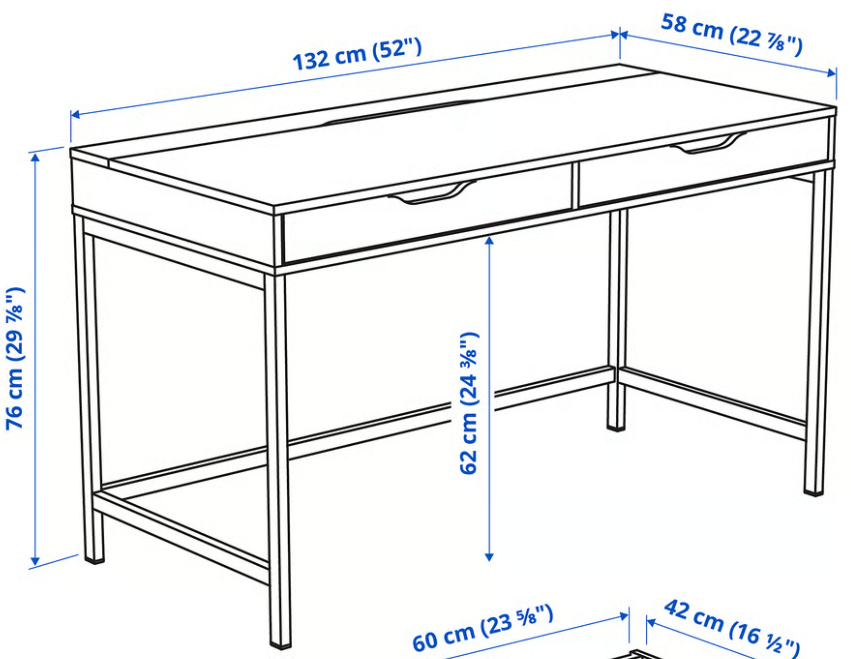table_drawer: (283, 163, 572, 264), (578, 117, 829, 208)
table_legs: (74, 215, 104, 563), (264, 274, 291, 650), (804, 169, 833, 495), (608, 209, 628, 430)
table_support: (275, 116, 835, 276), (287, 366, 614, 461), (71, 158, 283, 290), (93, 446, 270, 586), (619, 367, 806, 441)
table_top: (70, 64, 836, 216)
